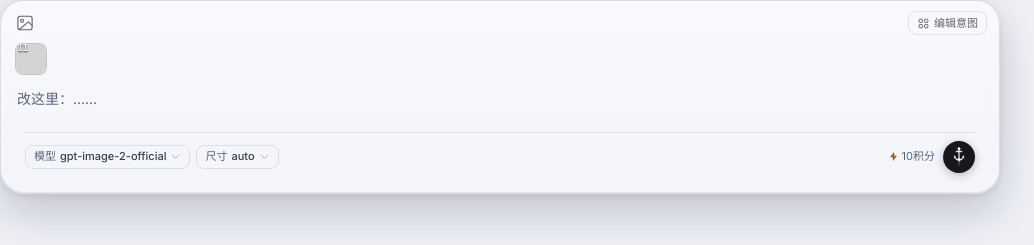
Scenario: RefineDock › 尺寸是受控选择器，列 auto + IMAGE2_EDIT_SIZES
Click the button with test id "dock-size-select". click: {"x": 238, "y": 156}
box: [196, 144, 279, 168]
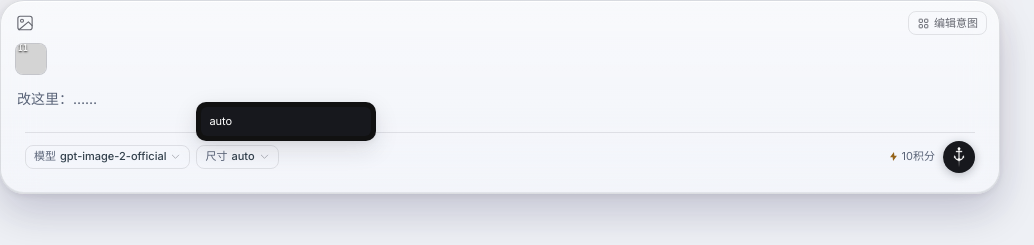
Expected: the button with test id "dock-size-option" is shown, [201, 107, 371, 136]
